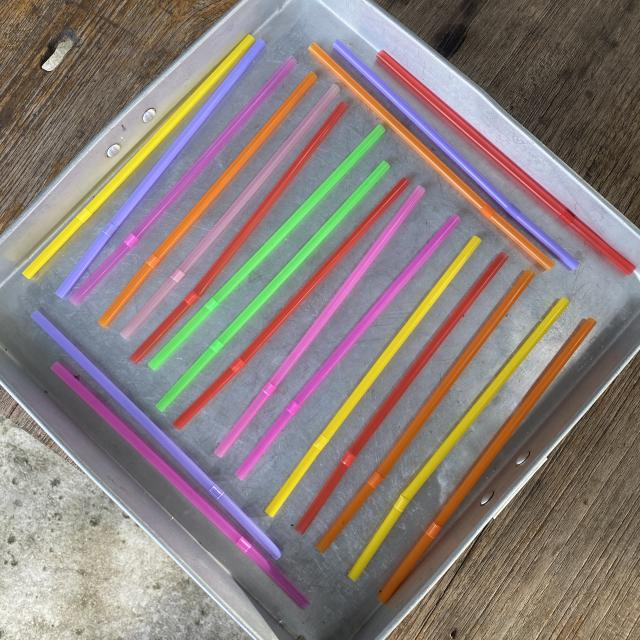Single-Use-Plastic: (52, 362, 310, 609), (378, 319, 596, 604), (349, 298, 569, 580), (31, 311, 281, 559), (316, 270, 534, 552), (266, 236, 481, 516), (296, 252, 508, 534), (174, 178, 409, 429), (156, 161, 389, 411), (236, 219, 459, 479), (378, 51, 635, 275), (150, 125, 384, 370), (22, 35, 255, 279), (130, 101, 346, 364), (332, 40, 579, 269), (215, 186, 424, 456), (309, 42, 555, 270), (69, 56, 296, 301), (99, 72, 316, 328), (121, 85, 339, 339), (56, 39, 265, 298)
